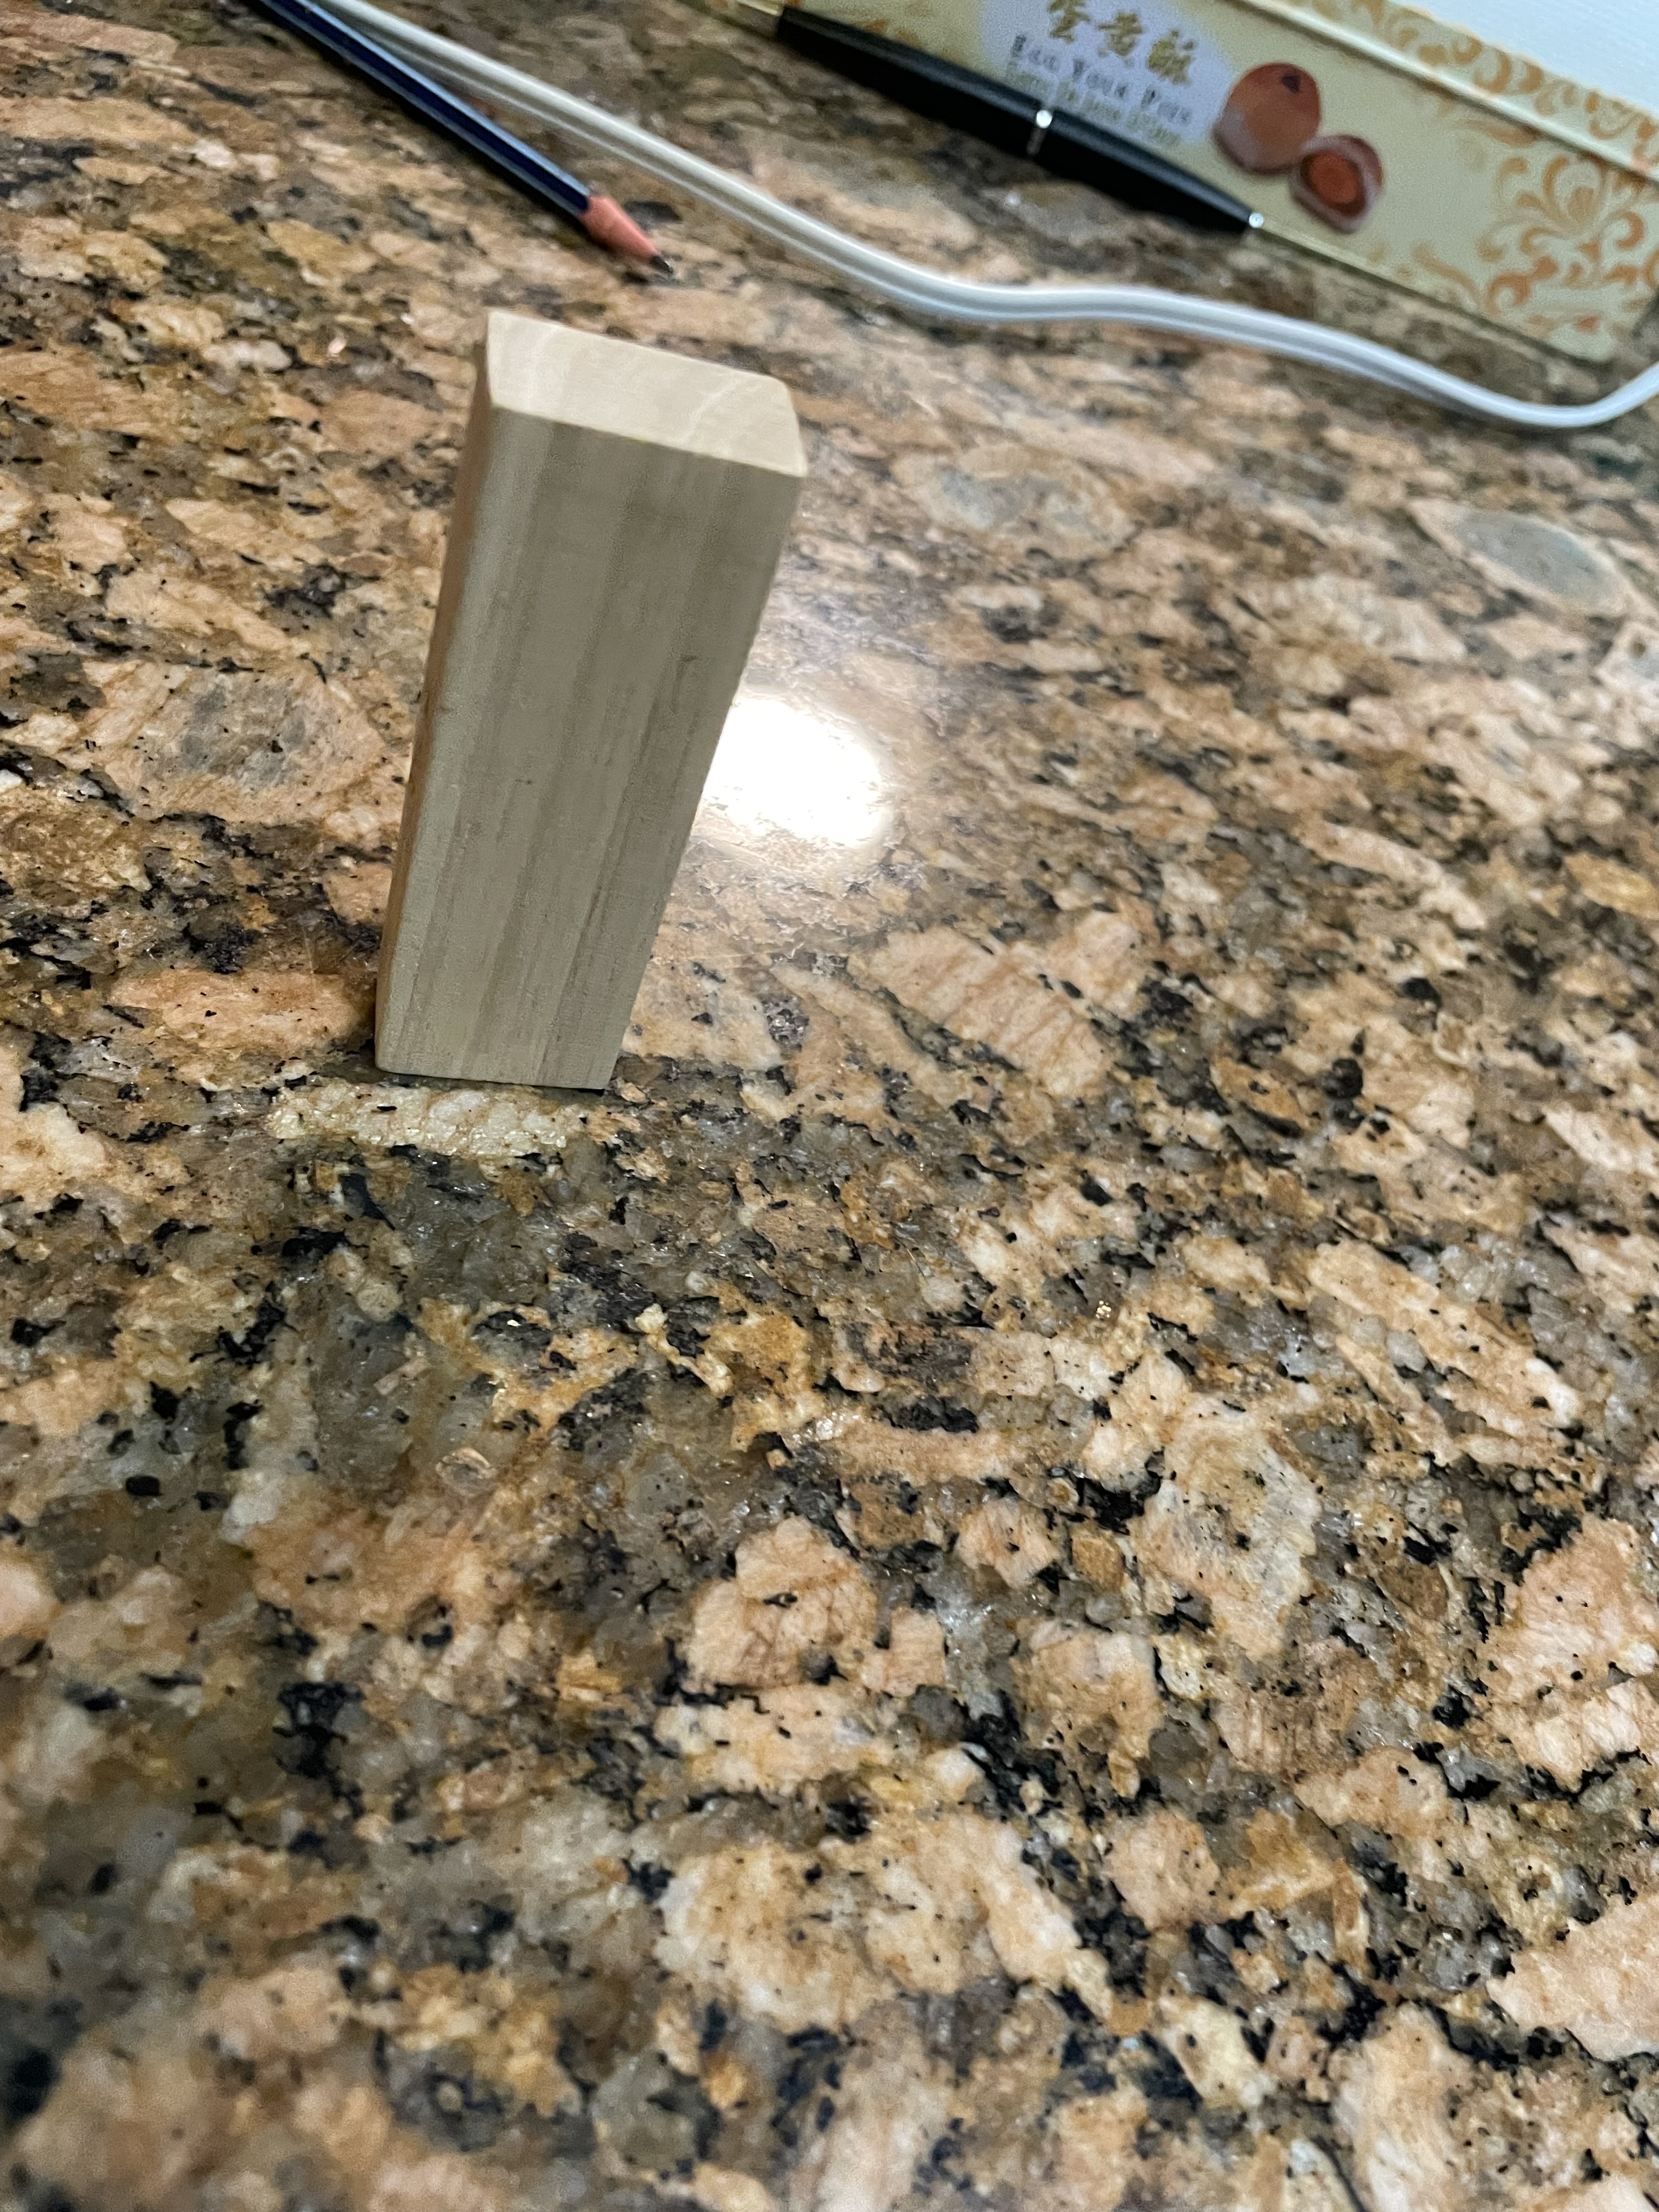jenga: (437, 289, 786, 1082)
